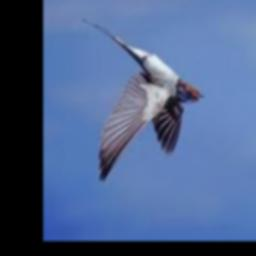Swallow: (81, 19, 203, 183)
